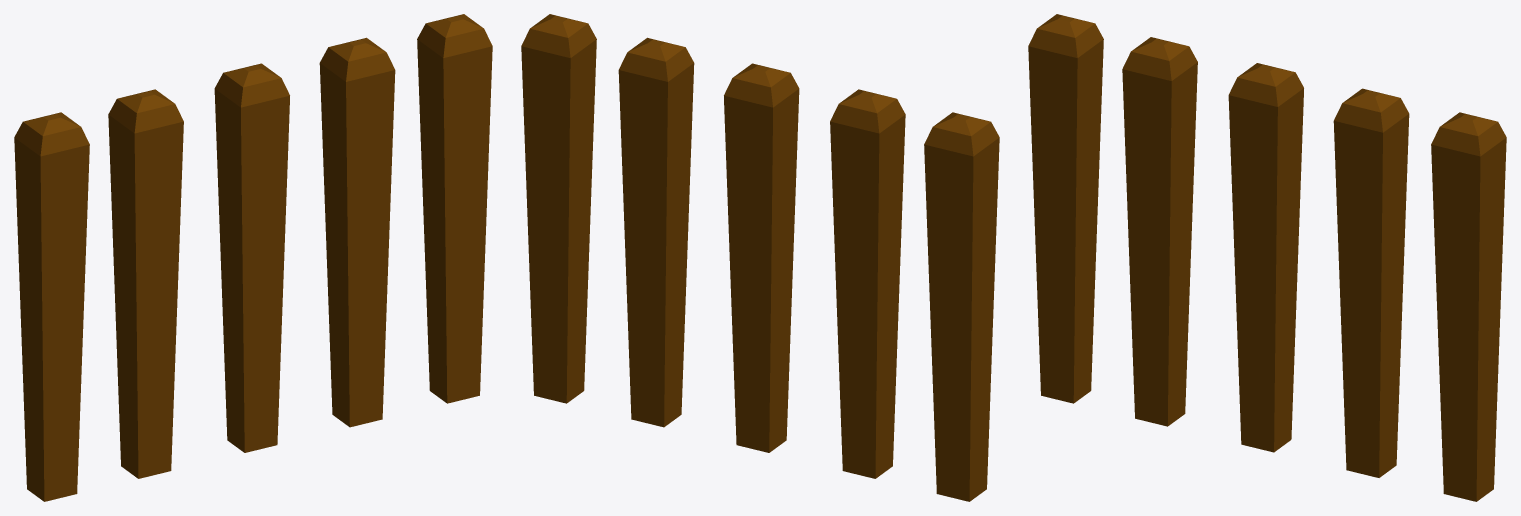
The model's file is Gate.fbx.
3 renders of one model, left to right at view 1: azimuth 30°, elevation 25°; view 2: azimuth 150°, elevation 25°; view 3: azimuth 330°, elevation 25°, orthographic.
Visible parts, largest first — view 1: Gate; view 2: Gate; view 3: Gate.
Part boxes in pixels (left/top/right/bottom): Gate: left=14, top=14, right=492, bottom=501; Gate: left=521, top=14, right=999, bottom=501; Gate: left=1028, top=14, right=1506, bottom=501.
Size of the model in its own units: 556 by 440 by 55.91.
